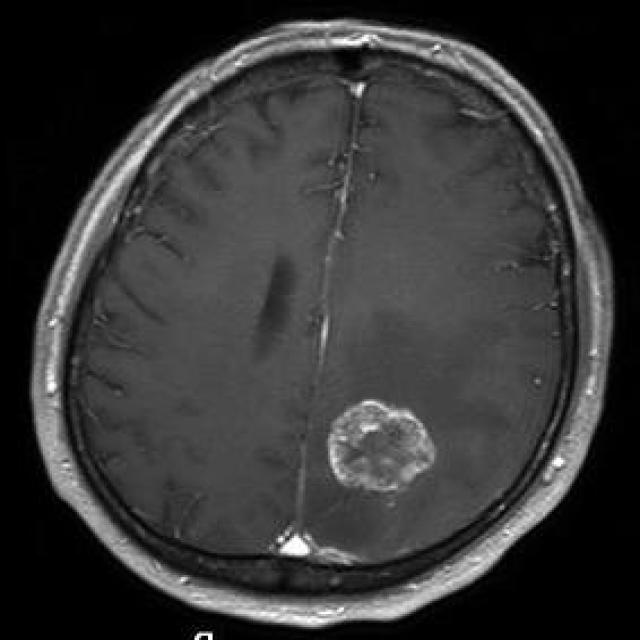Tumor-Cell: (324, 354, 442, 504)
